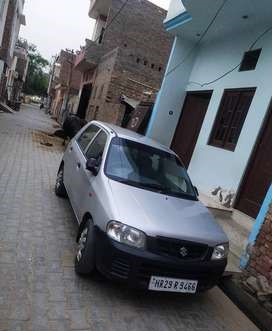HR29R9466: (149, 275, 198, 294)
